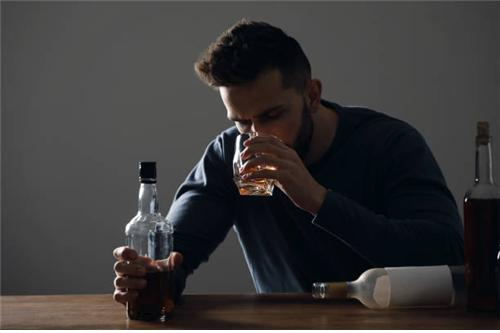alcohol: (123, 158, 171, 321), (235, 131, 281, 197)
